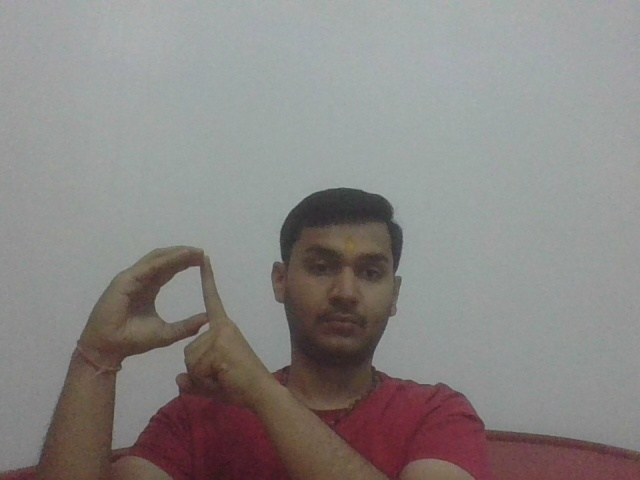D: (80, 242, 253, 395)
